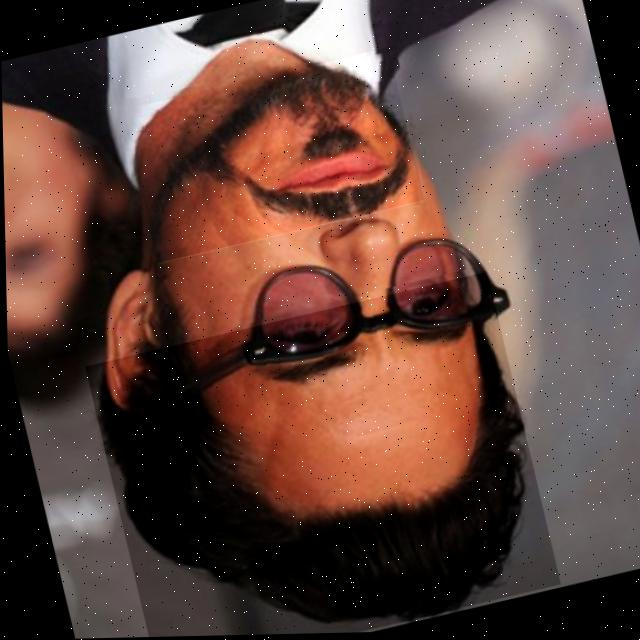beard: (146, 65, 417, 221)
hair: (95, 327, 521, 625)
